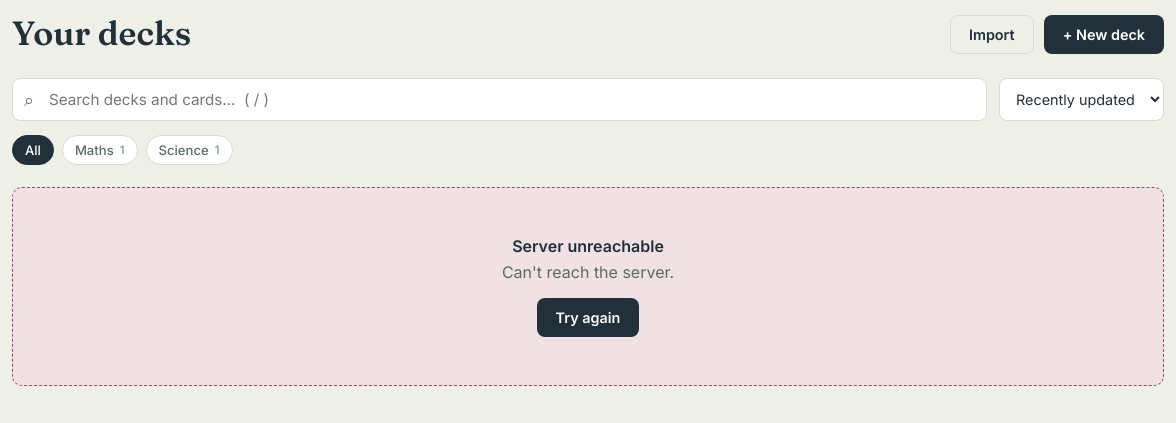
Scenario: DashboardPage › shows an error with retry when the API is down
The image size is (1176, 423).
Check: the text "Server unreachable" is shown, box [512,236,664,256]
Click the button "Try again".
click(588, 318)  # box [537,298,639,337]
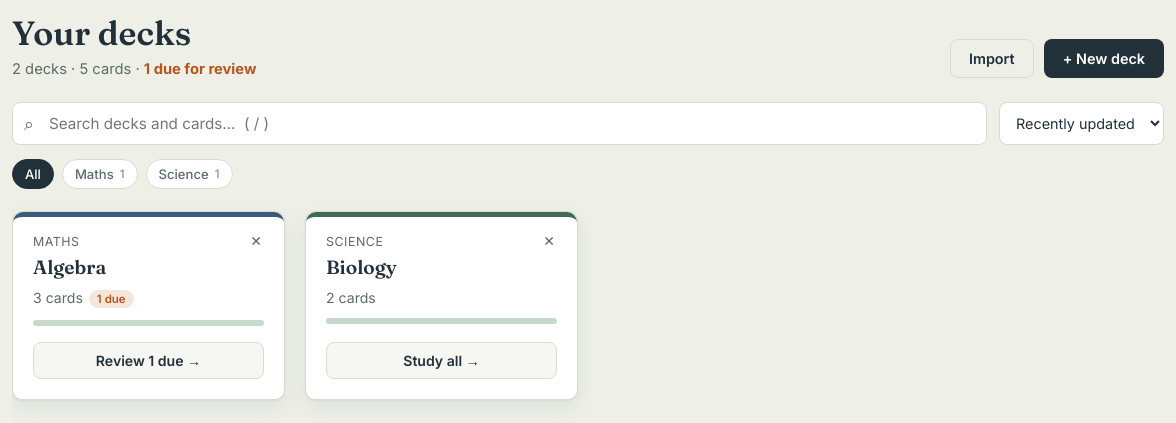
Check: the link "Algebra" is shown, box [33,255,106,279]
